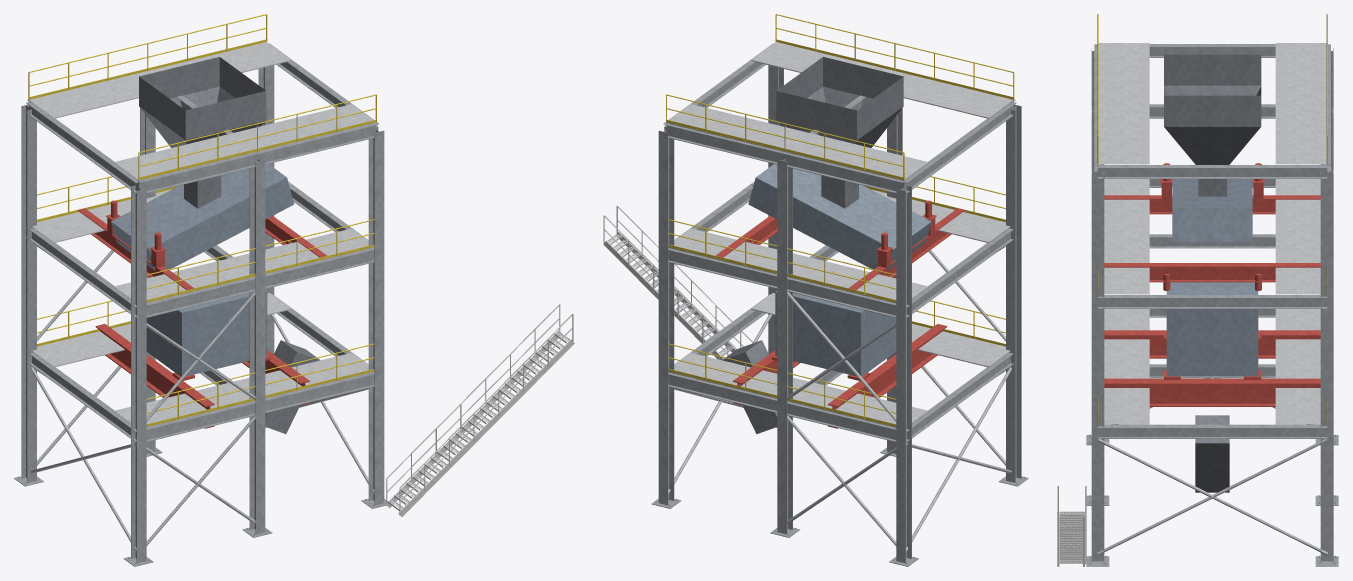
The model's file is crusher-and-screening-structures.glb.
3 views of the same model, side by side, from view 1: azimuth 30°, elevation 25°; view 2: azimuth 150°, elevation 25°; view 3: azimuth 270°, elevation 25° (orthographic). The views are drawn at different scales.
Visible parts, largest first — view 1: Columns&BasePlates, GratingFloors, FloorBeams, Crusher&Screen(context), FeedHopper&Chutes, Handrails, AccessStair, Crusher&ScreenSupports, Bracing; view 2: Columns&BasePlates, GratingFloors, FloorBeams, Crusher&Screen(context), FeedHopper&Chutes, Handrails, Crusher&ScreenSupports, Bracing, AccessStair; view 3: GratingFloors, FloorBeams, FeedHopper&Chutes, Columns&BasePlates, Crusher&Screen(context), Crusher&ScreenSupports, Bracing, AccessStair, Handrails.
Part boxes in pixels (box(x1,y1,x2,y2)): Columns&BasePlates: box(14, 65, 387, 566); GratingFloors: box(29, 42, 376, 427); FloorBeams: box(26, 43, 378, 441); Crusher&Screen(context): box(111, 164, 294, 376); FeedHopper&Chutes: box(139, 57, 320, 433); Handrails: box(28, 14, 376, 426); AccessStair: box(386, 304, 574, 516); Crusher&ScreenSupports: box(77, 200, 327, 428); Bracing: box(30, 246, 374, 552); Columns&BasePlates: box(651, 65, 1028, 566); GratingFloors: box(666, 42, 1013, 427); FloorBeams: box(663, 43, 1016, 442); Crusher&Screen(context): box(748, 164, 931, 376); FeedHopper&Chutes: box(722, 57, 903, 434); Handrails: box(666, 14, 1014, 426); Crusher&ScreenSupports: box(715, 200, 964, 428); Bracing: box(668, 246, 1011, 552); AccessStair: box(603, 205, 752, 360); GratingFloors: box(1098, 43, 1326, 424); FloorBeams: box(1094, 44, 1330, 438); FeedHopper&Chutes: box(1164, 54, 1261, 492); Columns&BasePlates: box(1086, 48, 1338, 566); Crusher&Screen(context): box(1166, 179, 1258, 376); Crusher&ScreenSupports: box(1104, 163, 1320, 406); Bracing: box(1097, 378, 1327, 555); AccessStair: box(1057, 485, 1086, 566); Handrails: box(1097, 14, 1327, 424).
Size of the model in its own units: 17.94 by 16.5 by 9.82.
8 materials, 8 textured.
